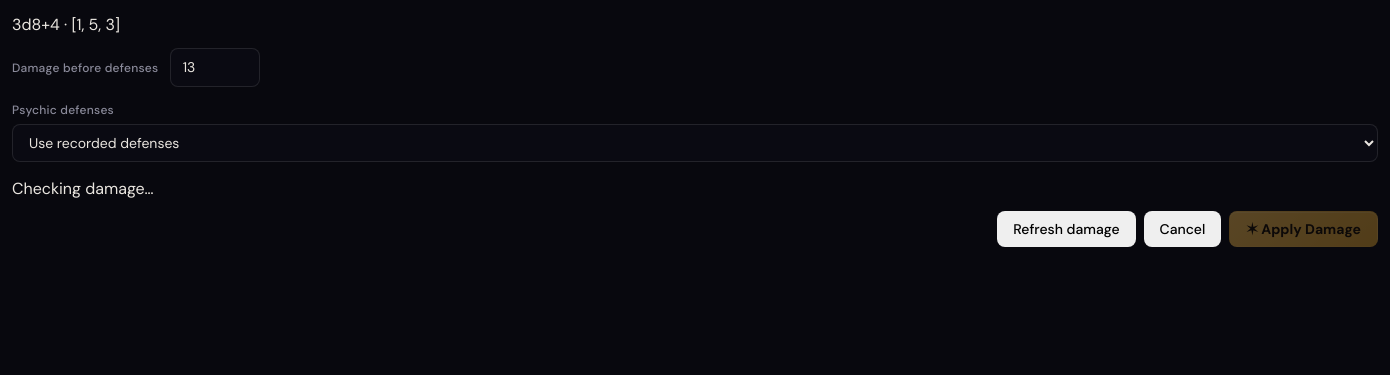
Test: late previews cannot overwrite newer choices
The image size is (1390, 375).
Select "Immune" in the dropdown labelled "Psychic defenses" at (695, 143), box [12,124,1378,162]
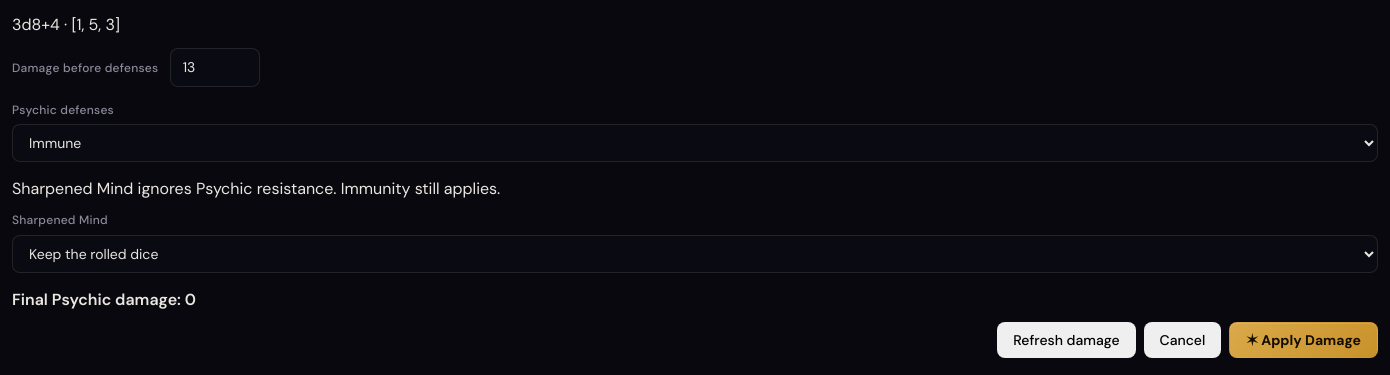
Expected: the text "Final Psychic damage: 0" is shown, [12,289,196,310]
